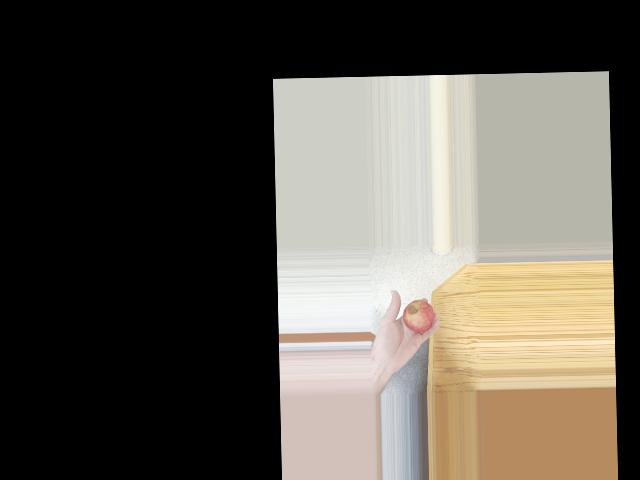apple: (402, 297, 435, 338)
